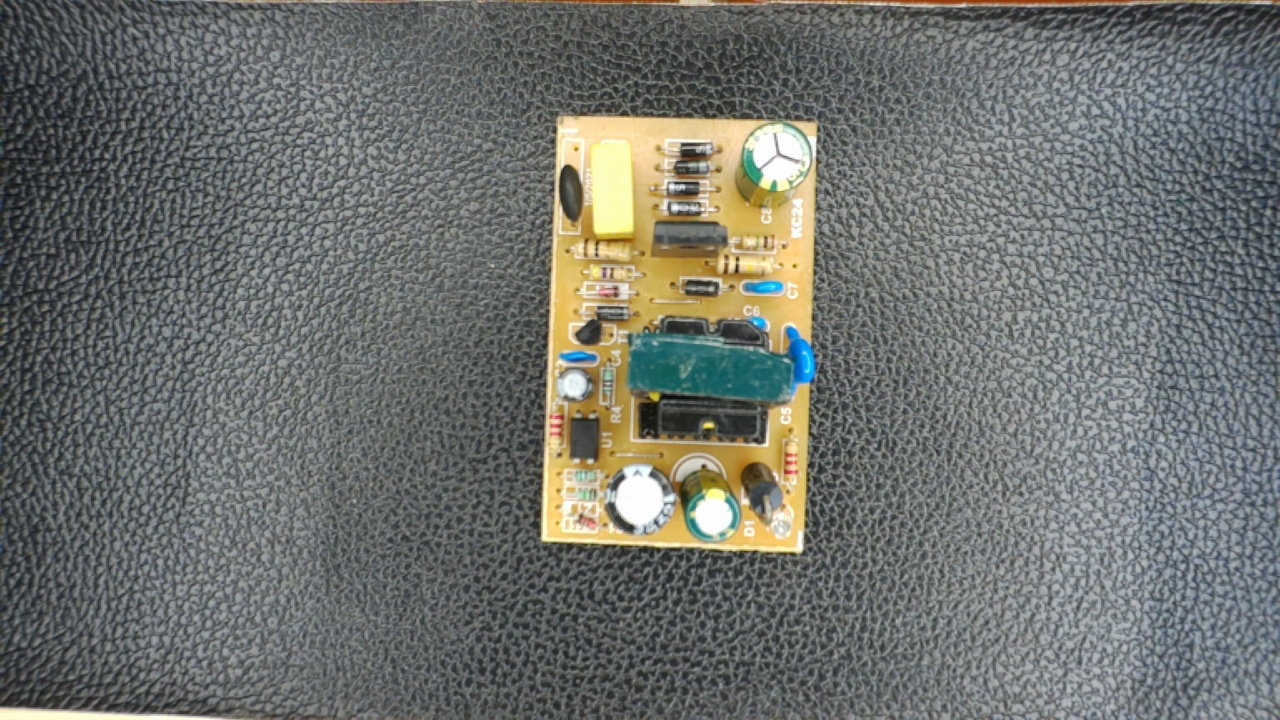fuse: (555, 158, 587, 231)
hv_capacitor: (735, 123, 813, 206)
mov: (780, 321, 812, 392)
optocoupler: (569, 408, 603, 467)
